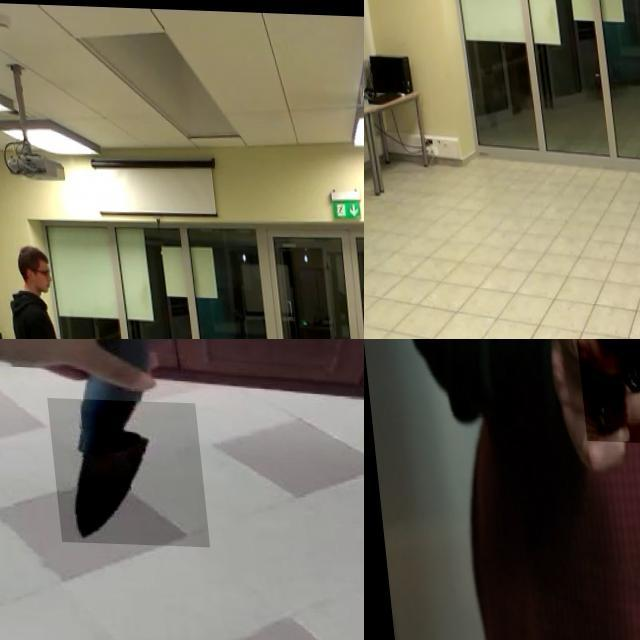-: (41, 396, 200, 545)
gun-knife-thesis - v11 Yolov5 augmented: (557, 339, 640, 470)
